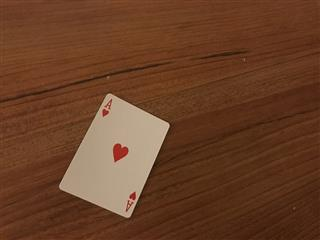AceOfHearts: (58, 92, 170, 218)
